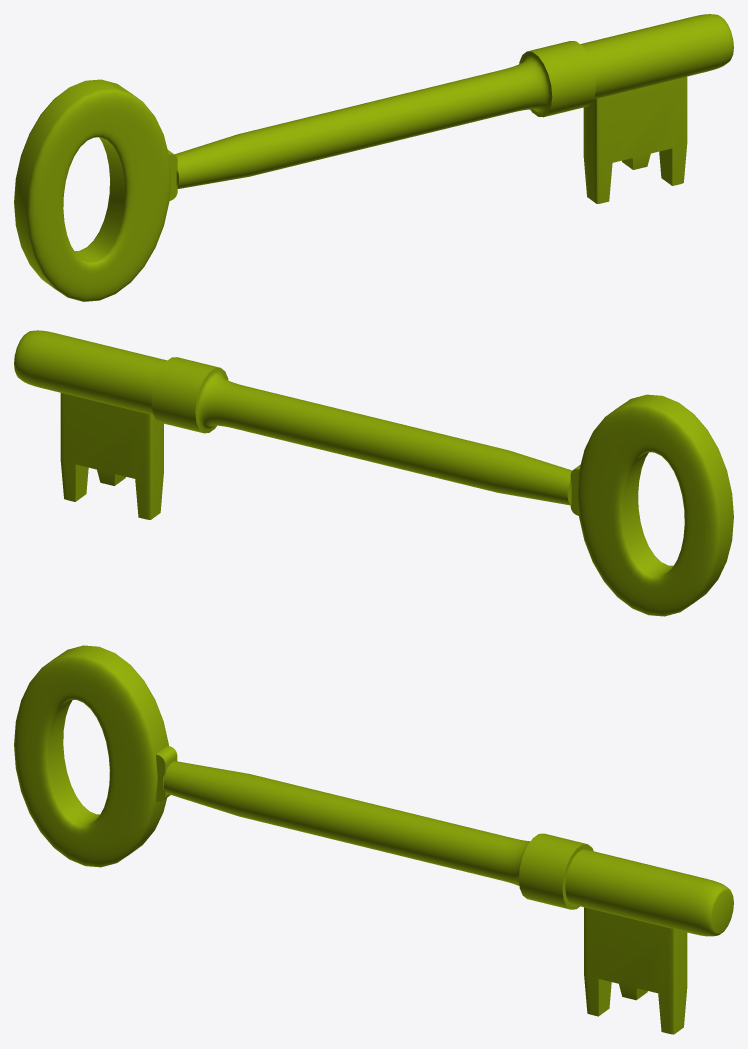
Rendered from Key.FBX.
The picture shows the model from 3 angles, top to bottom: view 1: azimuth 30°, elevation 25°; view 2: azimuth 150°, elevation 25°; view 3: azimuth 330°, elevation 25°; orthographic projection.
Visible parts, largest first — view 1: Key; view 2: Key; view 3: Key.
Boxes of the visible parts, left/top/right/bottom form: Key: left=14, top=14, right=733, bottom=301; Key: left=14, top=330, right=733, bottom=616; Key: left=14, top=645, right=733, bottom=1034.
Bounding box in the file's own units: 303 × 97.79 × 25.33.
